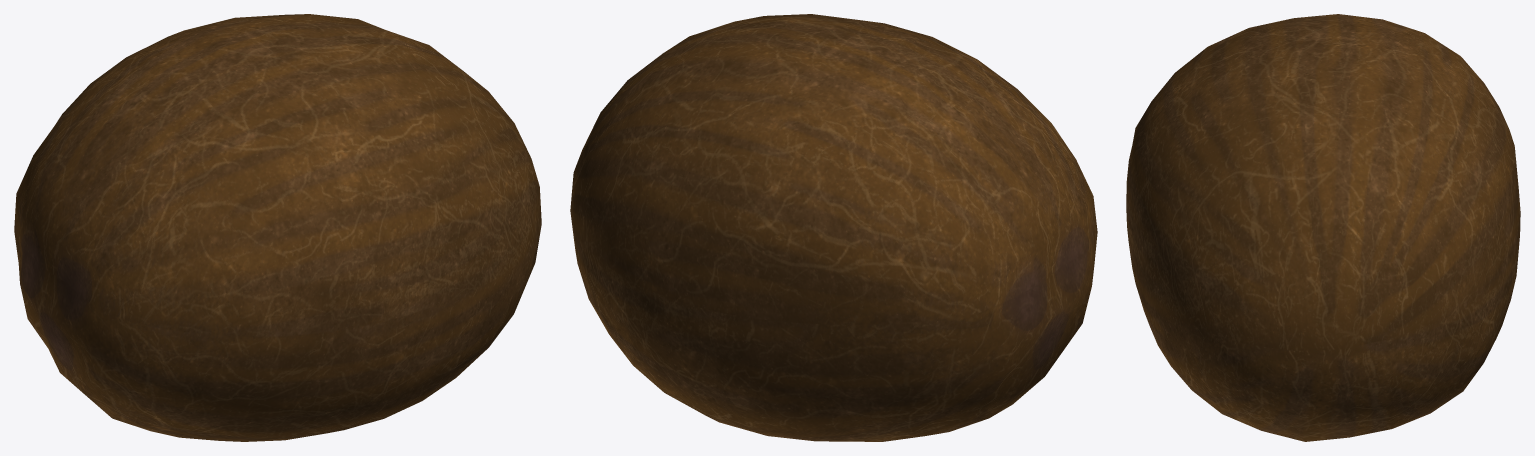
File: Coconut_FBX.fbx
3 views of the same model, side by side, from view 1: azimuth 30°, elevation 25°; view 2: azimuth 150°, elevation 25°; view 3: azimuth 270°, elevation 25° (orthographic). The views are drawn at different scales.
Parts seen in each view (by area): view 1: Coconut; view 2: Coconut; view 3: Coconut.
Part boxes in pixels (bbox=[...]): Coconut: bbox=[14, 14, 541, 441]; Coconut: bbox=[570, 14, 1097, 441]; Coconut: bbox=[1126, 14, 1520, 441].
Size of the model in its own units: 22.37 by 17.17 by 17.1.
Materials: 1 (1 with a texture image).
